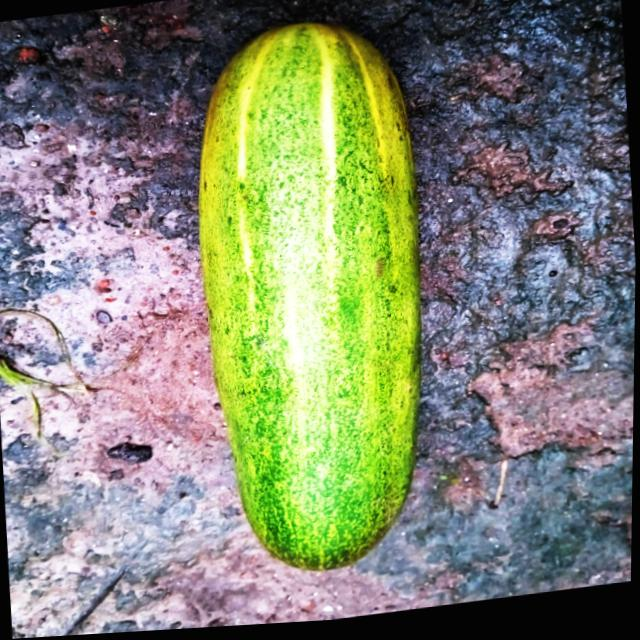Fresh-Cucumber: (176, 7, 450, 594)
